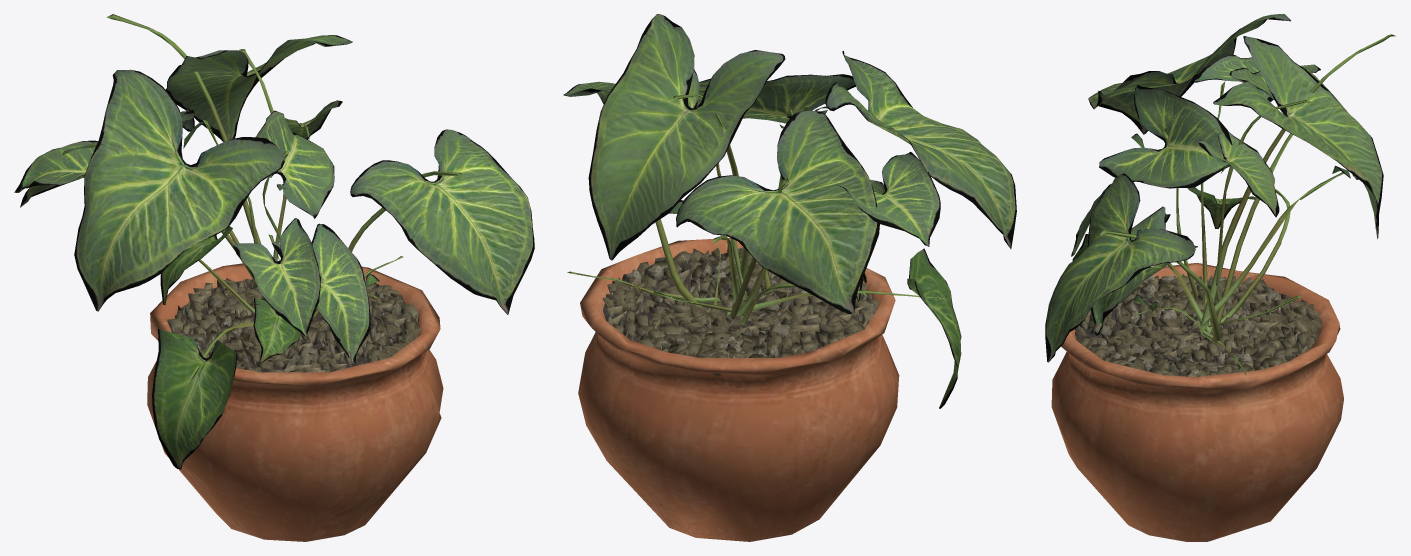
Rendered from jardiniere_plante_b_lod0.glb.
3 renders of one model, left to right at view 1: azimuth 30°, elevation 25°; view 2: azimuth 150°, elevation 25°; view 3: azimuth 270°, elevation 25°, orthographic. The views are drawn at different scales.
Visible parts, largest first — view 1: potted_plant_02_leaves, potted_plant_02_pot; view 2: potted_plant_02_leaves, potted_plant_02_pot; view 3: potted_plant_02_pot, potted_plant_02_leaves.
Boxes of the visible parts, box(x1,y1,x2,y2) form: potted_plant_02_leaves: box(14, 14, 534, 469); potted_plant_02_pot: box(147, 261, 443, 541); potted_plant_02_leaves: box(563, 14, 1016, 408); potted_plant_02_pot: box(578, 238, 899, 541); potted_plant_02_pot: box(1051, 263, 1343, 541); potted_plant_02_leaves: box(1045, 14, 1395, 375).
Size of the model in its own units: 0.7534 by 0.7892 by 0.5669.
Materials: 2 (2 with a texture image).
